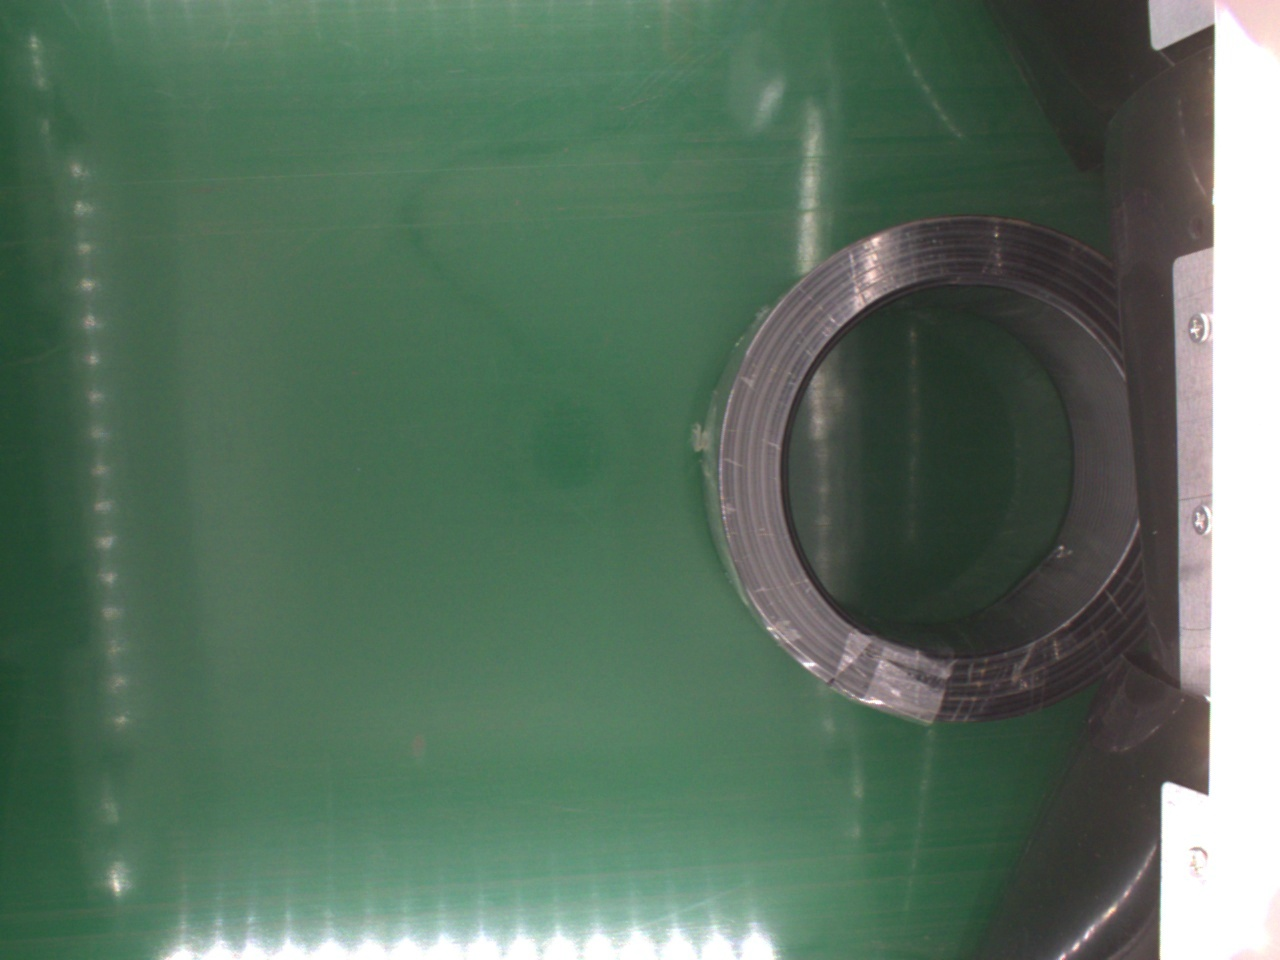black: (700, 212, 1151, 727)
